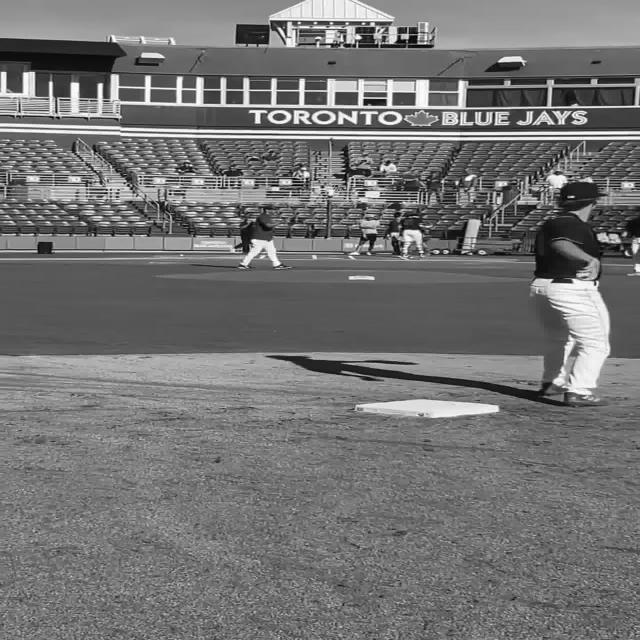base: (356, 398, 502, 416)
baseball: (575, 271, 589, 279)
shoe: (563, 392, 607, 406), (542, 382, 568, 396), (272, 264, 292, 269), (236, 264, 254, 269), (399, 253, 409, 260), (626, 272, 640, 276), (347, 251, 360, 255), (366, 251, 372, 255)
